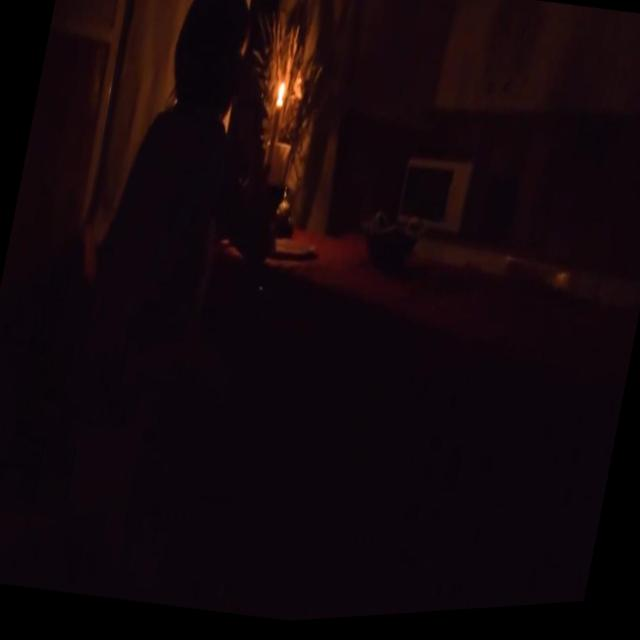fire: (272, 79, 290, 112)
